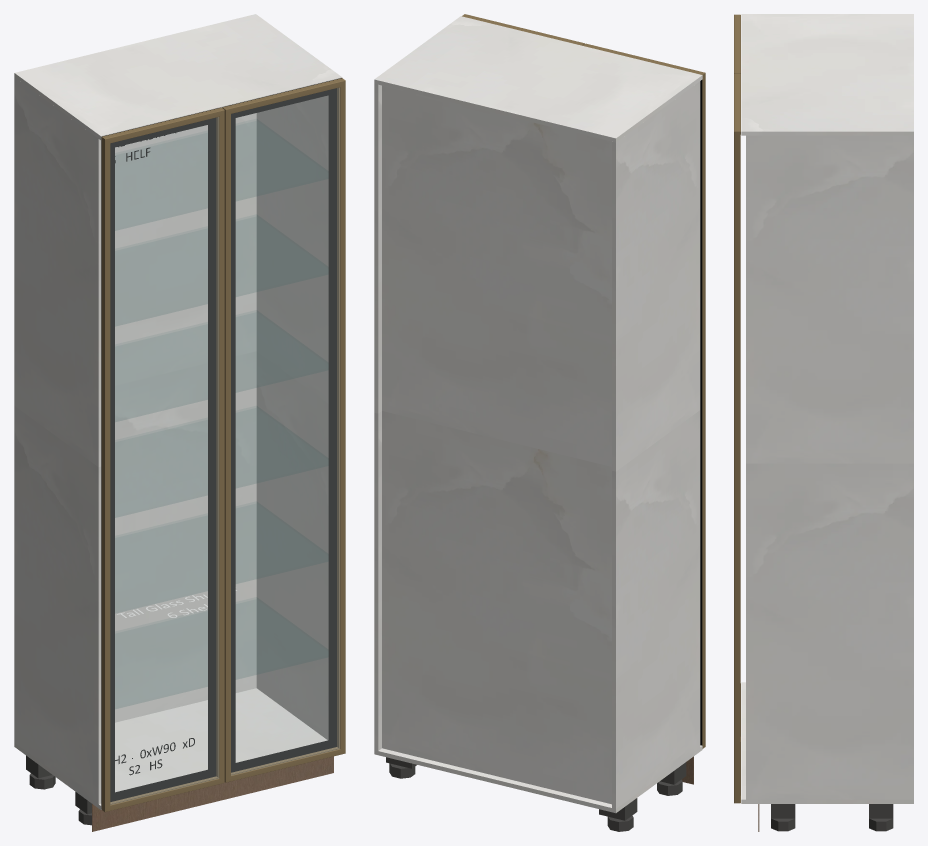
File: TC-SH-STD-GL-6SG-2HS-XXX-900-2400-560-15.glb
The picture shows the model from 3 angles, left to right: view 1: azimuth 30°, elevation 25°; view 2: azimuth 150°, elevation 25°; view 3: azimuth 270°, elevation 25°; orthographic projection.
Visible parts, largest first — view 1: Object_node_29, Object_node_33, TP_node_2, TP_node_0, TP_node_1, Neon 22 Profile ALU PROF NEON 20 L21XH22.5MM 3MTR S2/405 SEC (×8), TP, Object_node_31, TP_node, Object_node_35, Object_node_37; view 2: TP_node_2, TP_node_0, TP, TP_node_1, Neon 22 Profile ALU PROF NEON 20 L21XH22.5MM 3MTR S2/405 SEC, TP_node, Object_node_31; view 3: TP_node_1, TP, Neon 22 Profile ALU PROF NEON 20 L21XH22.5MM 3MTR S2/405 SEC (×3), TP_node, Plate_node, Plate_node_1.
Boxes of the visible parts, x1,y1,x2,y2 form: Object_node_29: (110,117,218,804); Object_node_33: (231,88,339,775); TP_node_2: (115,113,256,722); TP_node_0: (14,77,101,804); TP_node_1: (256,95,328,740); Neon 22 Profile ALU PROF NEON 20 L21XH22.5MM 3MTR S2/405 SEC (×8): (101,78,345,811); TP: (14,14,342,139); Object_node_31: (101,107,220,809); TP_node: (14,688,327,809); Object_node_35: (222,78,341,772); Object_node_37: (92,756,333,831); TP_node_2: (382,85,611,804); TP_node_0: (612,81,700,808); TP: (374,16,702,142); TP_node_1: (374,84,381,750); Neon 22 Profile ALU PROF NEON 20 L21XH22.5MM 3MTR S2/405 SEC: (702,73,705,748); TP_node: (374,745,702,813); Object_node_31: (700,80,702,745); TP_node_1: (746,135,913,799); TP: (741,14,913,135); Neon 22 Profile ALU PROF NEON 20 L21XH22.5MM 3MTR S2/405 SEC (×3): (734,14,740,803); TP_node: (741,682,913,803); Plate_node: (869,804,893,818); Plate_node_1: (771,804,795,818).
Size of what is drawn, in the model's own units: 0.9 by 2.5 by 0.582.
9 materials, 2 textured.
